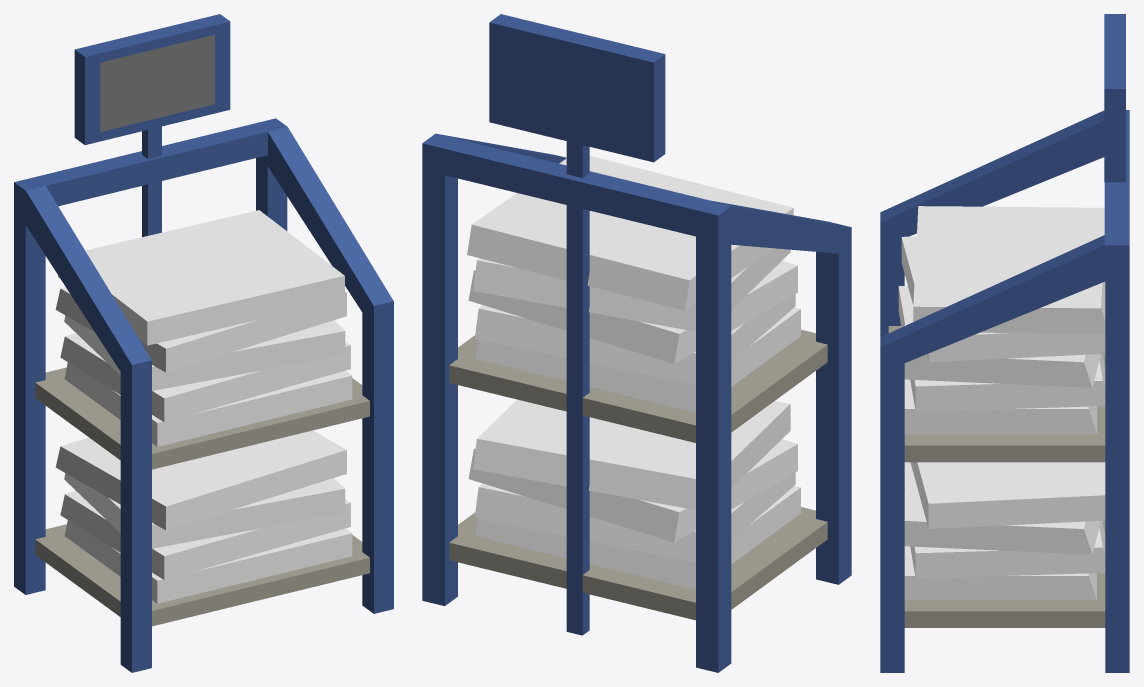
Rendered from Newspaper_Stand.fbx.
3 views of the same model, side by side, from view 1: azimuth 30°, elevation 25°; view 2: azimuth 150°, elevation 25°; view 3: azimuth 270°, elevation 25° (orthographic). The views are drawn at different scales.
Parts seen in each view (by area): view 1: Newspaper_Stand; view 2: Newspaper_Stand; view 3: Newspaper_Stand.
Part boxes in pixels (x1,y1,x2,y2): Newspaper_Stand: [14, 14, 393, 672]; Newspaper_Stand: [422, 14, 851, 672]; Newspaper_Stand: [880, 14, 1129, 672].
Bounding box in the file's own units: 64.37 × 123 × 50.2.
1 material, 1 textured.
